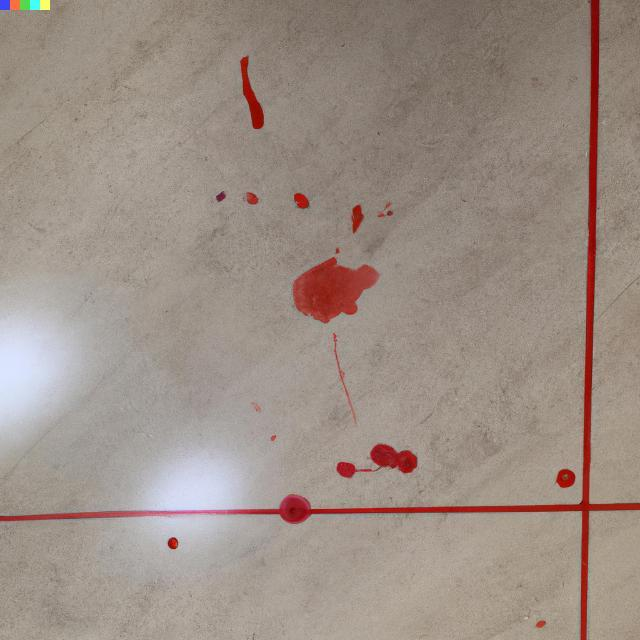blood: (292, 257, 379, 324), (240, 54, 264, 129), (369, 444, 418, 473), (278, 494, 311, 524), (336, 461, 373, 478), (556, 469, 575, 488), (294, 192, 309, 208), (246, 192, 258, 204)
